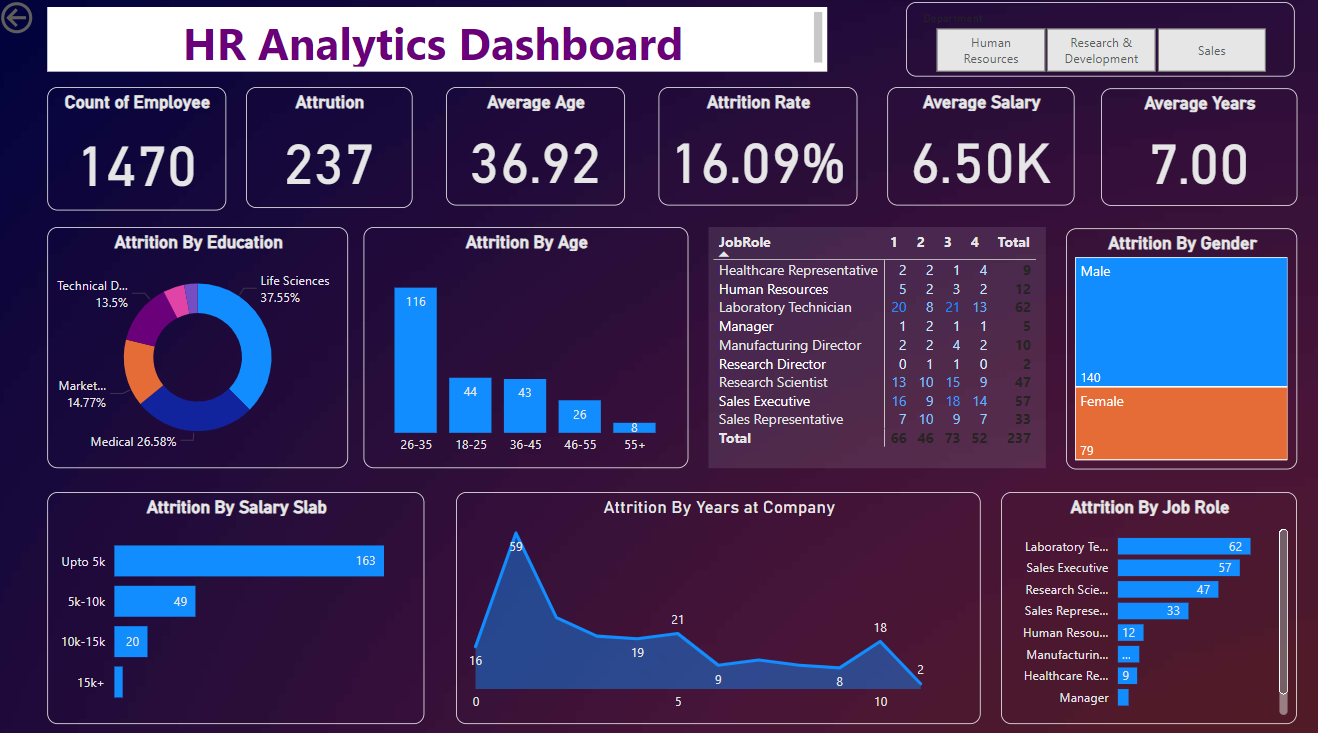

The dashboard page shown, as its layout file describes it:
{"tool":"powerbi","page":{"name":"Page 1","canvas":[1280,720],"ordinal":0},"visuals":[{"type":"card","title":"Count of Employee","fields":{"Values":["Count(7a5f8a70601fe8b9aa7da4b33702ad3.EmpID)"]},"box":[49.5,86.9,172.5,119.4],"z":0},{"type":"card","title":"Average Age","fields":{"Values":["Avg(7a5f8a70601fe8b9aa7da4b33702ad3.Age)"]},"box":[434.3,86.9,172.5,114.6],"z":1000},{"type":"card","title":"Attrution","fields":{"Values":["Sum(7a5f8a70601fe8b9aa7da4b33702ad3.AttritionCount)"]},"box":[241.3,86.9,160.5,117],"z":2000},{"type":"card","title":"Attrition Rate","fields":{"Values":["7a5f8a70601fe8b9aa7da4b33702ad3.AttritionRate"]},"box":[639.4,86.9,191.8,114.6],"z":3000},{"type":"actionButton","box":[0,0,100,40],"z":4000},{"type":"card","title":"Average Salary","fields":{"Values":["Avg(7a5f8a70601fe8b9aa7da4b33702ad3.MonthlyIncome)"]},"box":[860.2,86.9,181,114.6],"z":5000},{"type":"card","title":"Average Years","fields":{"Values":["Avg(7a5f8a70601fe8b9aa7da4b33702ad3.YearsAtCompany)"]},"box":[1066.5,88.1,189.4,113.4],"z":6000},{"type":"donutChart","title":"Attrition By Education","fields":{"Category":["7a5f8a70601fe8b9aa7da4b33702ad3.EducationField"],"Y":["Sum(7a5f8a70601fe8b9aa7da4b33702ad3.AttritionCount)"]},"box":[49.5,222,290.8,232.8],"z":7000},{"type":"clusteredColumnChart","title":"Attrition By Age","fields":{"Category":["7a5f8a70601fe8b9aa7da4b33702ad3.AgeGroup"],"Y":["Sum(7a5f8a70601fe8b9aa7da4b33702ad3.AttritionCount)"]},"box":[354.7,222,313.7,232.8],"z":8000},{"type":"pivotTable","fields":{"Rows":["7a5f8a70601fe8b9aa7da4b33702ad3.JobRole"],"Columns":["7a5f8a70601fe8b9aa7da4b33702ad3.JobSatisfaction"],"Values":["Sum(7a5f8a70601fe8b9aa7da4b33702ad3.AttritionCount)"]},"box":[687.7,222,325.7,232.8],"z":9000},{"type":"clusteredBarChart","title":"Attrition By Salary Slab","fields":{"Category":["7a5f8a70601fe8b9aa7da4b33702ad3.SalarySlab"],"Y":["Sum(7a5f8a70601fe8b9aa7da4b33702ad3.AttritionCount)"]},"box":[49.5,477.8,364.3,224.4],"z":10000},{"type":"clusteredBarChart","title":"Attrition By Job Role","fields":{"Y":["Sum(7a5f8a70601fe8b9aa7da4b33702ad3.AttritionCount)"],"Category":["7a5f8a70601fe8b9aa7da4b33702ad3.JobRole"]},"box":[970,477.8,285.9,224.4],"z":11000},{"type":"areaChart","title":"Attrition By Years at Company","fields":{"Y":["Sum(7a5f8a70601fe8b9aa7da4b33702ad3.AttritionCount)"],"Category":["7a5f8a70601fe8b9aa7da4b33702ad3.YearsAtCompany"]},"box":[444,477.8,506.7,224.4],"z":12000},{"type":"treemap","title":"Attrition By Gender","fields":{"Values":["Sum(7a5f8a70601fe8b9aa7da4b33702ad3.AttritionCount)"],"Group":["7a5f8a70601fe8b9aa7da4b33702ad3.Gender"]},"box":[1032.7,223.2,223.2,232.8],"z":13000},{"type":"slicer","fields":{"Values":["7a5f8a70601fe8b9aa7da4b33702ad3.Department"]},"box":[878.3,4.8,375.2,72.4],"z":14000},{"type":"textbox","box":[49.5,9.7,752.8,62.7],"z":15000}]}

Visuals, with their boxes in screenshot pixels (x1, y1, x2, y2), scaled from the page's 1280x720 canvas onto the 1318x733 screenshot:
"Count of Employee" card: locate(51, 88, 229, 210)
"Average Age" card: locate(447, 88, 625, 205)
"Attrution" card: locate(248, 88, 414, 208)
"Attrition Rate" card: locate(658, 88, 856, 205)
actionButton: locate(0, 0, 103, 41)
"Average Salary" card: locate(886, 88, 1072, 205)
"Average Years" card: locate(1098, 90, 1293, 205)
"Attrition By Education" donutChart: locate(51, 226, 350, 463)
"Attrition By Age" clusteredColumnChart: locate(365, 226, 688, 463)
pivotTable - 7a5f8a70601fe8b9aa7da4b33702ad3.JobRole x 7a5f8a70601fe8b9aa7da4b33702ad3.JobSatisfaction: locate(708, 226, 1043, 463)
"Attrition By Salary Slab" clusteredBarChart: locate(51, 486, 426, 715)
"Attrition By Job Role" clusteredBarChart: locate(999, 486, 1293, 715)
"Attrition By Years at Company" areaChart: locate(457, 486, 979, 715)
"Attrition By Gender" treemap: locate(1063, 227, 1293, 464)
slicer - 7a5f8a70601fe8b9aa7da4b33702ad3.Department: locate(904, 5, 1291, 79)
textbox: locate(51, 10, 826, 74)
